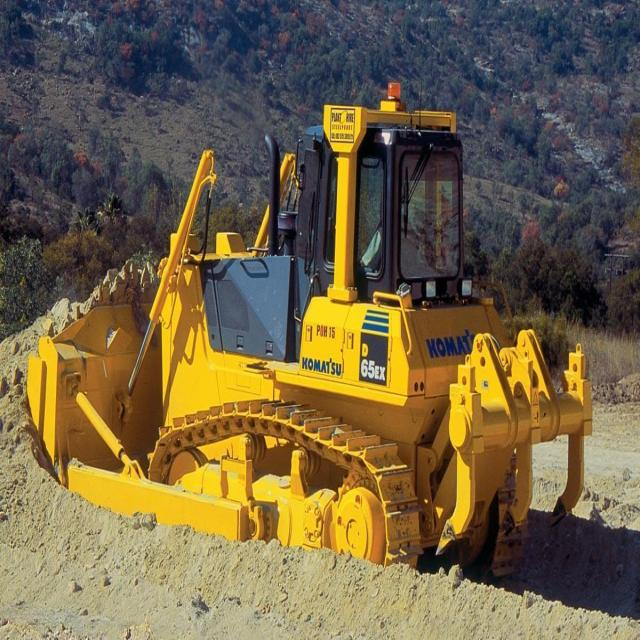buldozerpayloadergrader: (36, 69, 596, 612)
